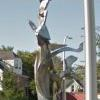Statue: (16, 3, 77, 100)
